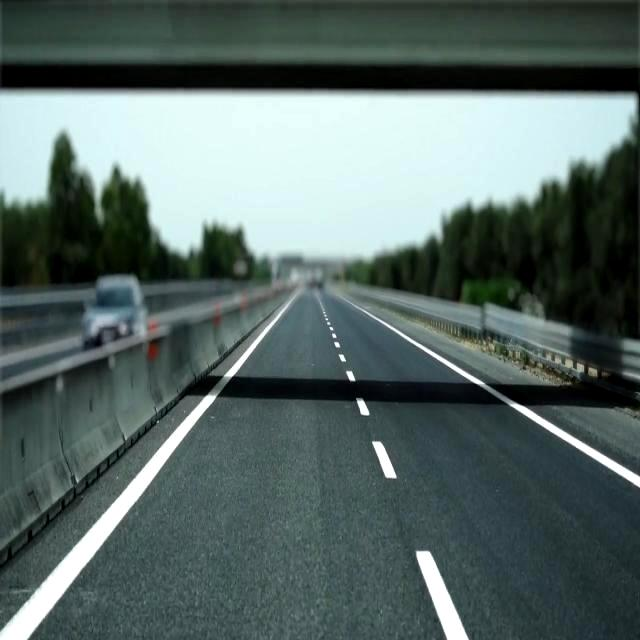lane: (0, 290, 299, 640), (341, 298, 640, 488), (416, 551, 469, 639), (373, 441, 396, 478)
road: (30, 290, 639, 639), (0, 330, 260, 626), (389, 319, 639, 472)
